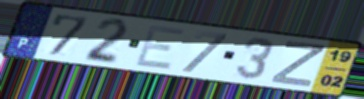2: (81, 17, 129, 67)
3: (234, 36, 277, 82)
7: (180, 29, 230, 74), (48, 12, 92, 57)
E: (132, 24, 188, 72)
Z: (268, 39, 328, 89)
